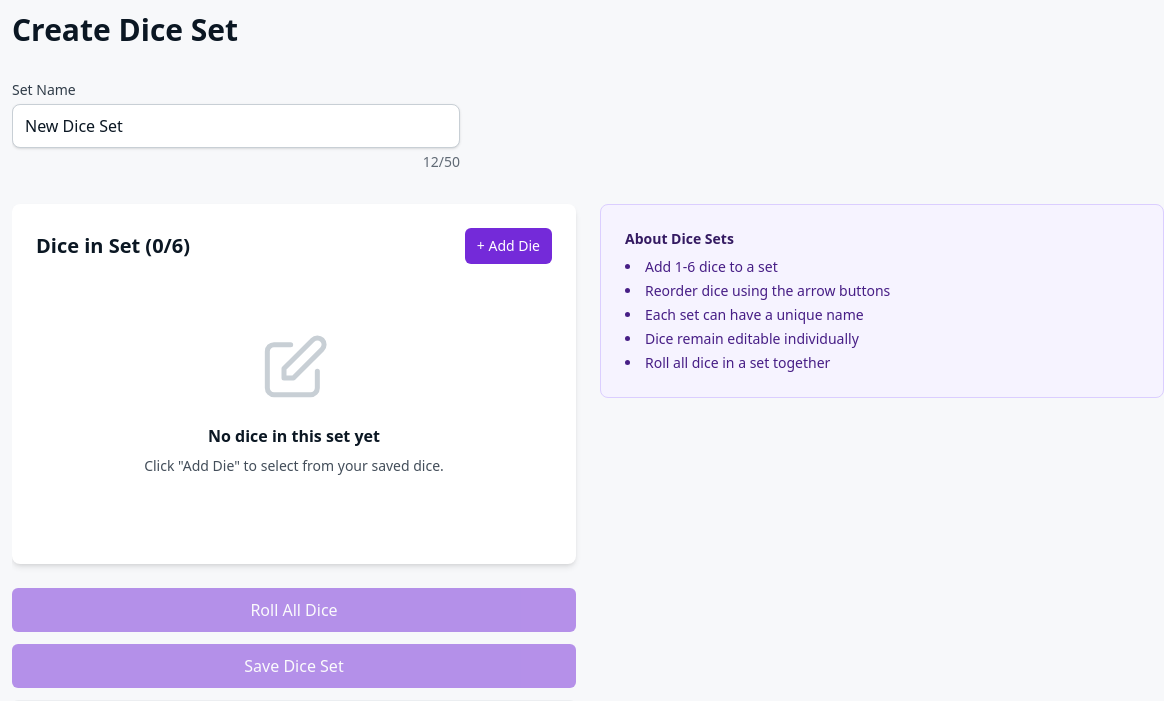
Scenario: Dice Set Integration › Creating and saving a dice set › should create a dice set with multiple dice and save it
Click the field labelled "Set Name": [236, 126] box x1=12 y1=104 x2=460 y2=148
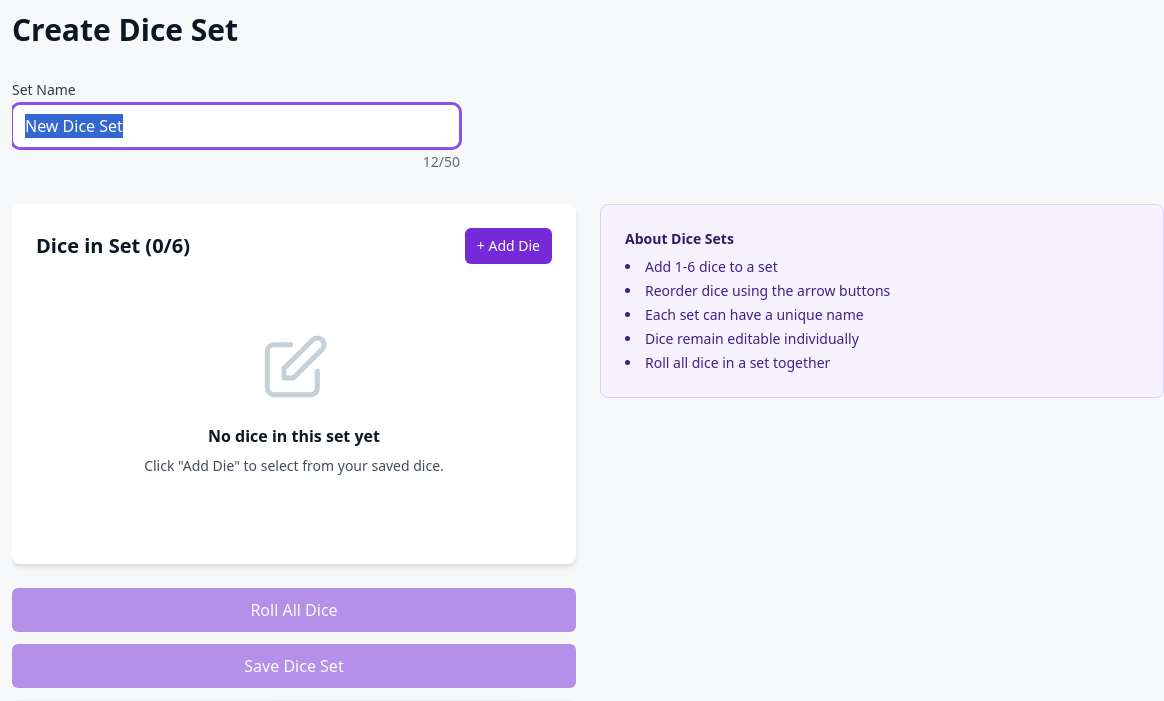
Type keys "My Test Set"
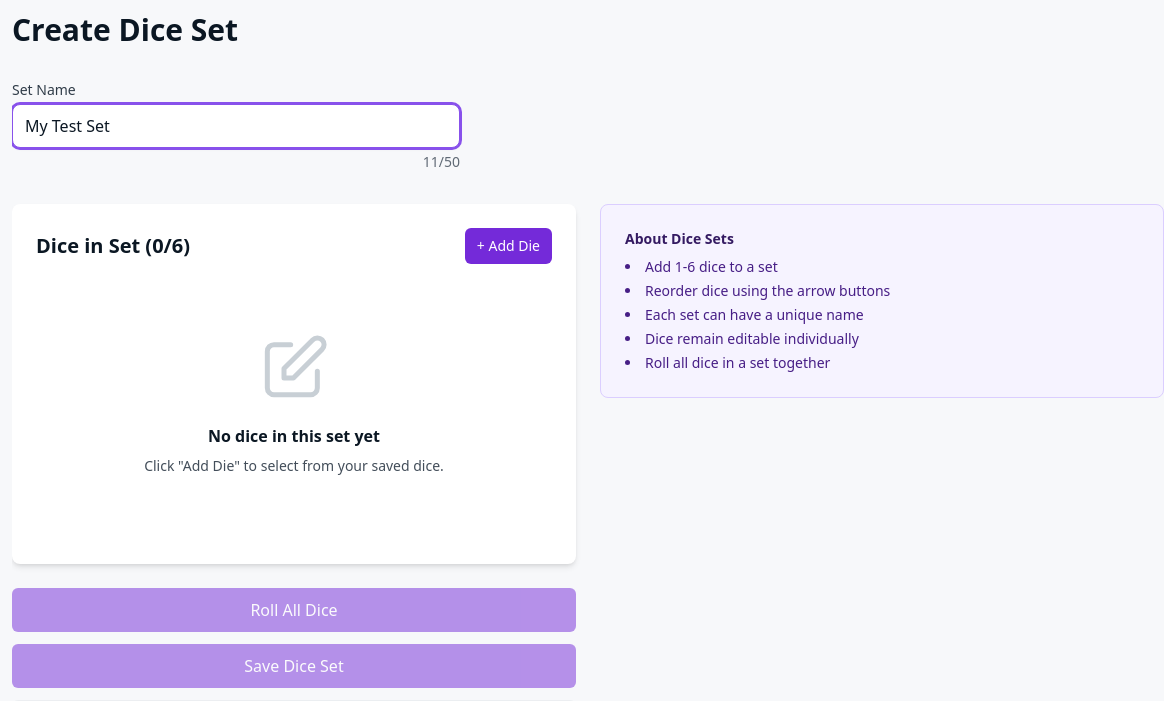
Expected: the field labelled "Set Name" holds "My Test Set", x1=12 y1=104 x2=460 y2=148
